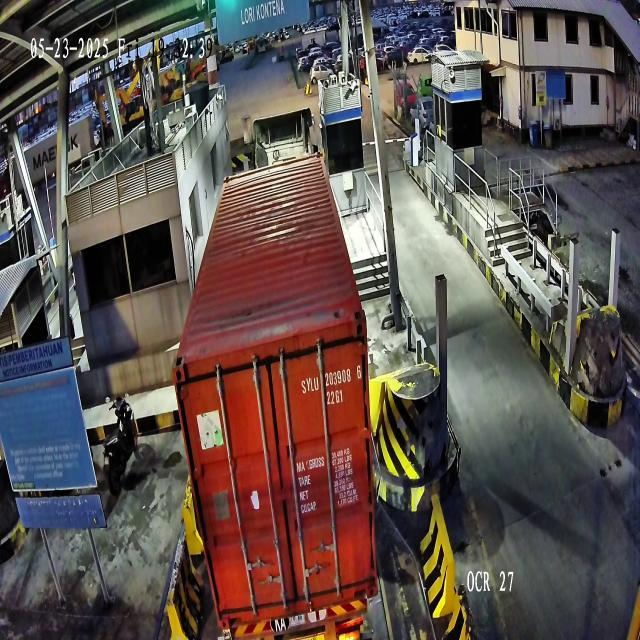ISO: (326, 389, 344, 411)
container_number: (300, 363, 363, 398)
